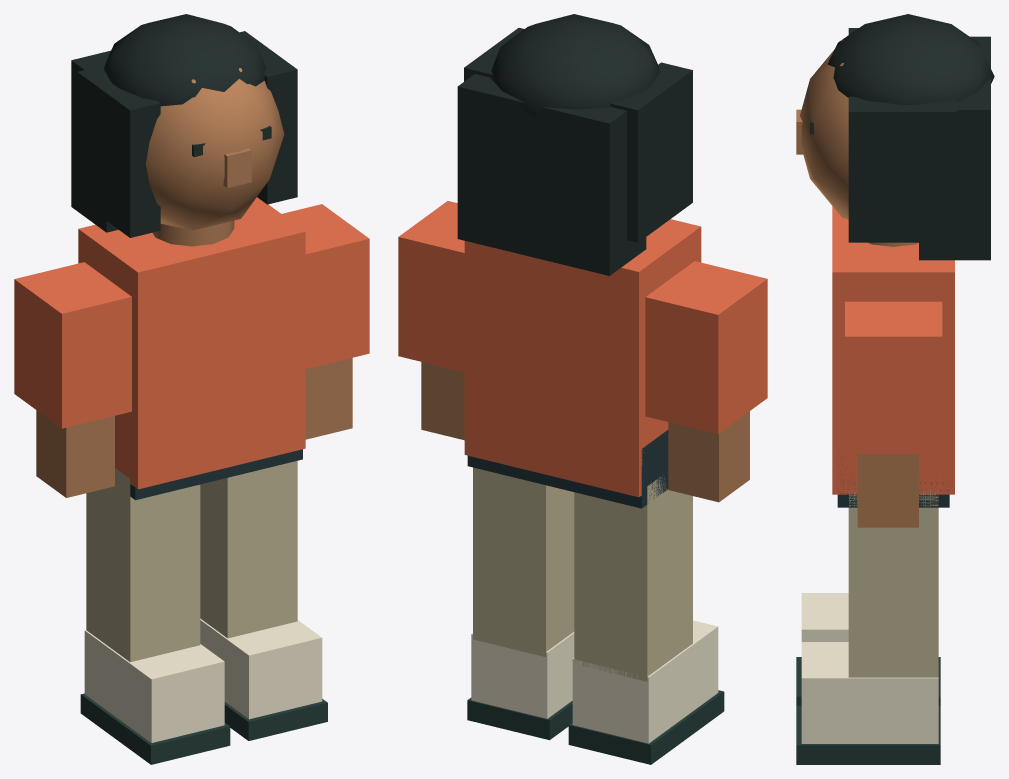
File: female-bob.glb
The picture shows the model from 3 angles, left to right: view 1: azimuth 30°, elevation 25°; view 2: azimuth 150°, elevation 25°; view 3: azimuth 270°, elevation 25°; orthographic projection. The views are drawn at different scales.
Visible parts, largest first — view 1: female-bob, avatar-hair; view 2: female-bob, avatar-hair; view 3: female-bob, avatar-hair.
Part boxes in pixels (x1,y1,x2,y2): female-bob: (14,14,369,764); avatar-hair: (71,31,297,237); female-bob: (398,14,767,764); avatar-hair: (457,28,692,275); female-bob: (796,14,994,764); avatar-hair: (848,28,990,260).
Size of the model in its own units: 1.01 by 2.13 by 0.55.
